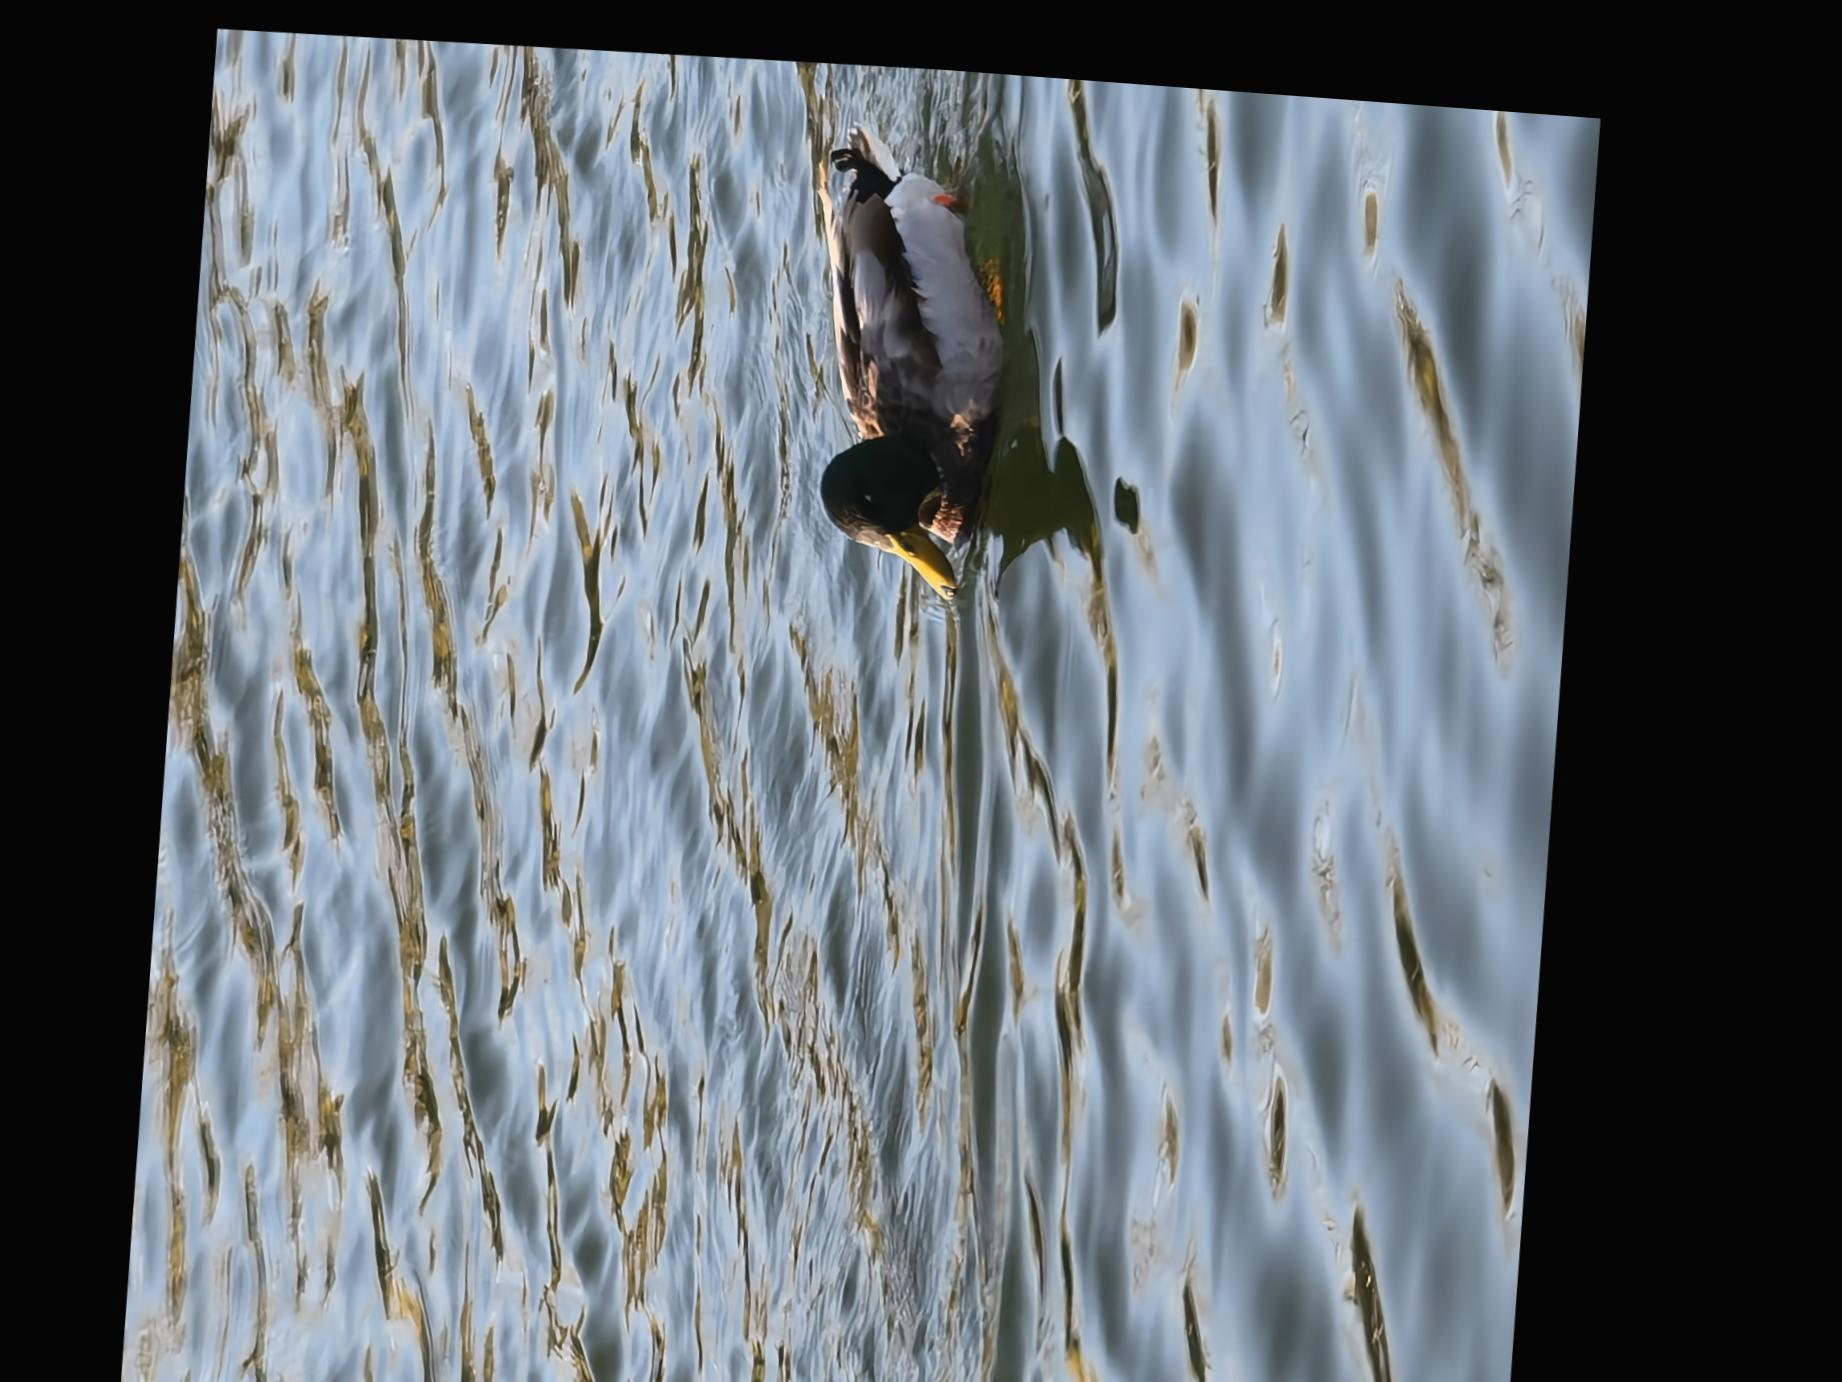duck: (794, 109, 1029, 595)
